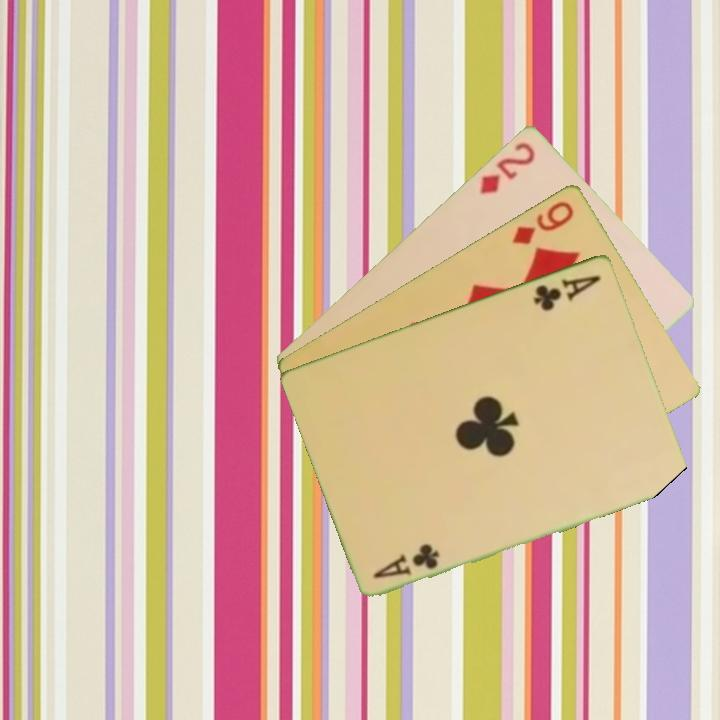2d: (476, 137, 539, 197)
9d: (508, 197, 577, 247)
Ac: (530, 271, 604, 314), (369, 539, 443, 581)
